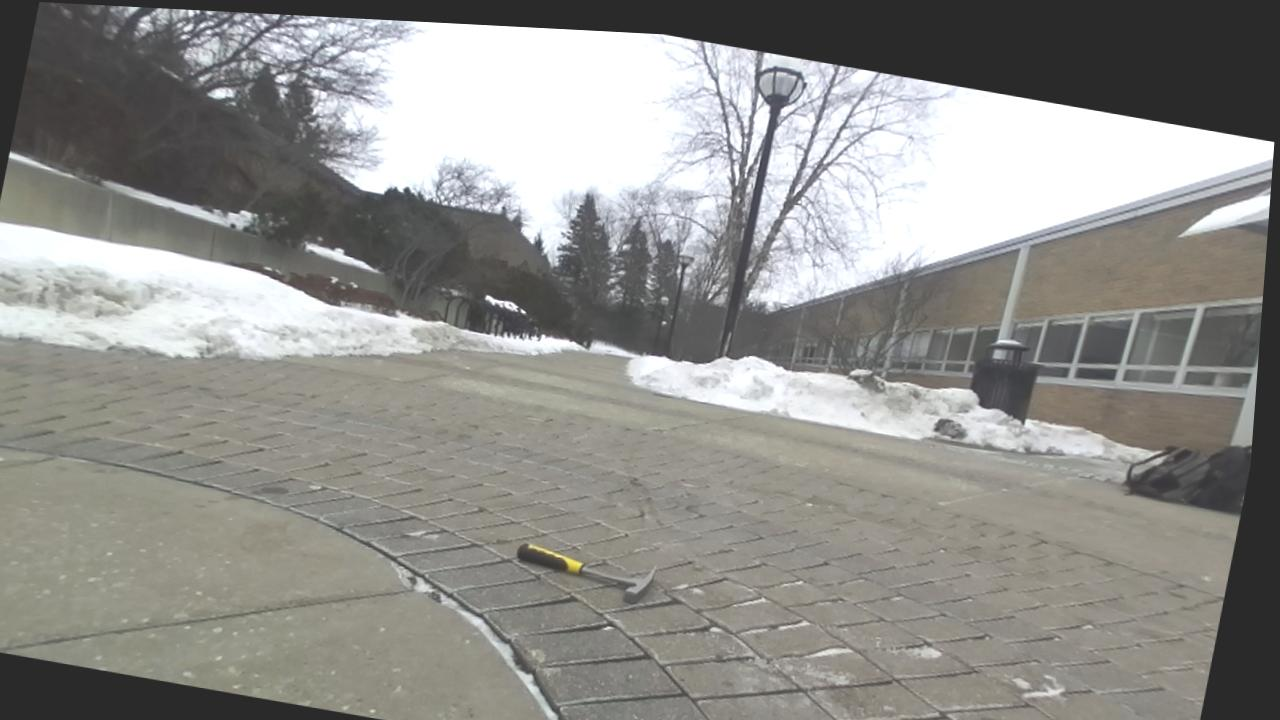pick: (517, 543, 655, 602)
